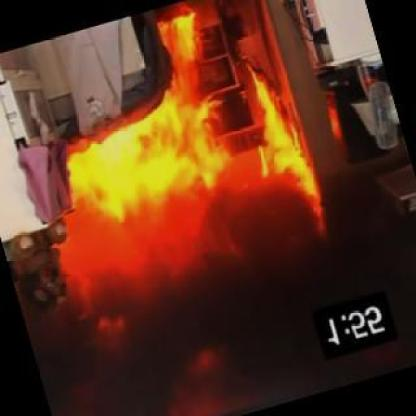Fire: (53, 85, 327, 288)
